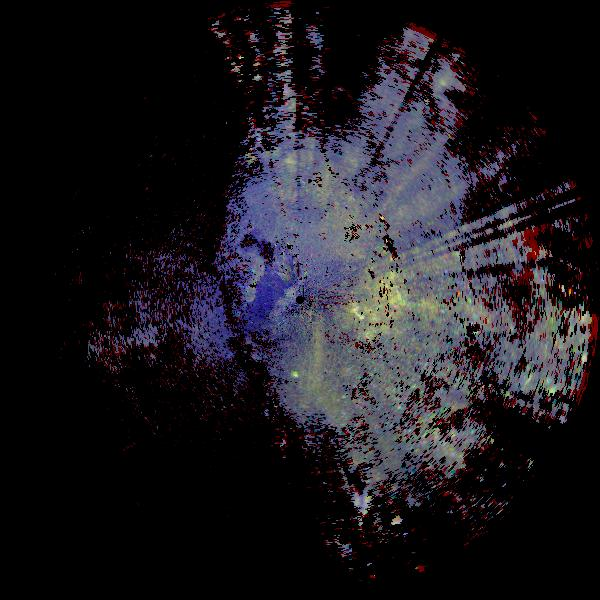roost: (347, 300, 362, 315), (290, 371, 299, 380)
